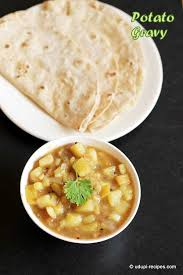curry: (19, 140, 145, 240)
roti: (1, 1, 145, 133)
